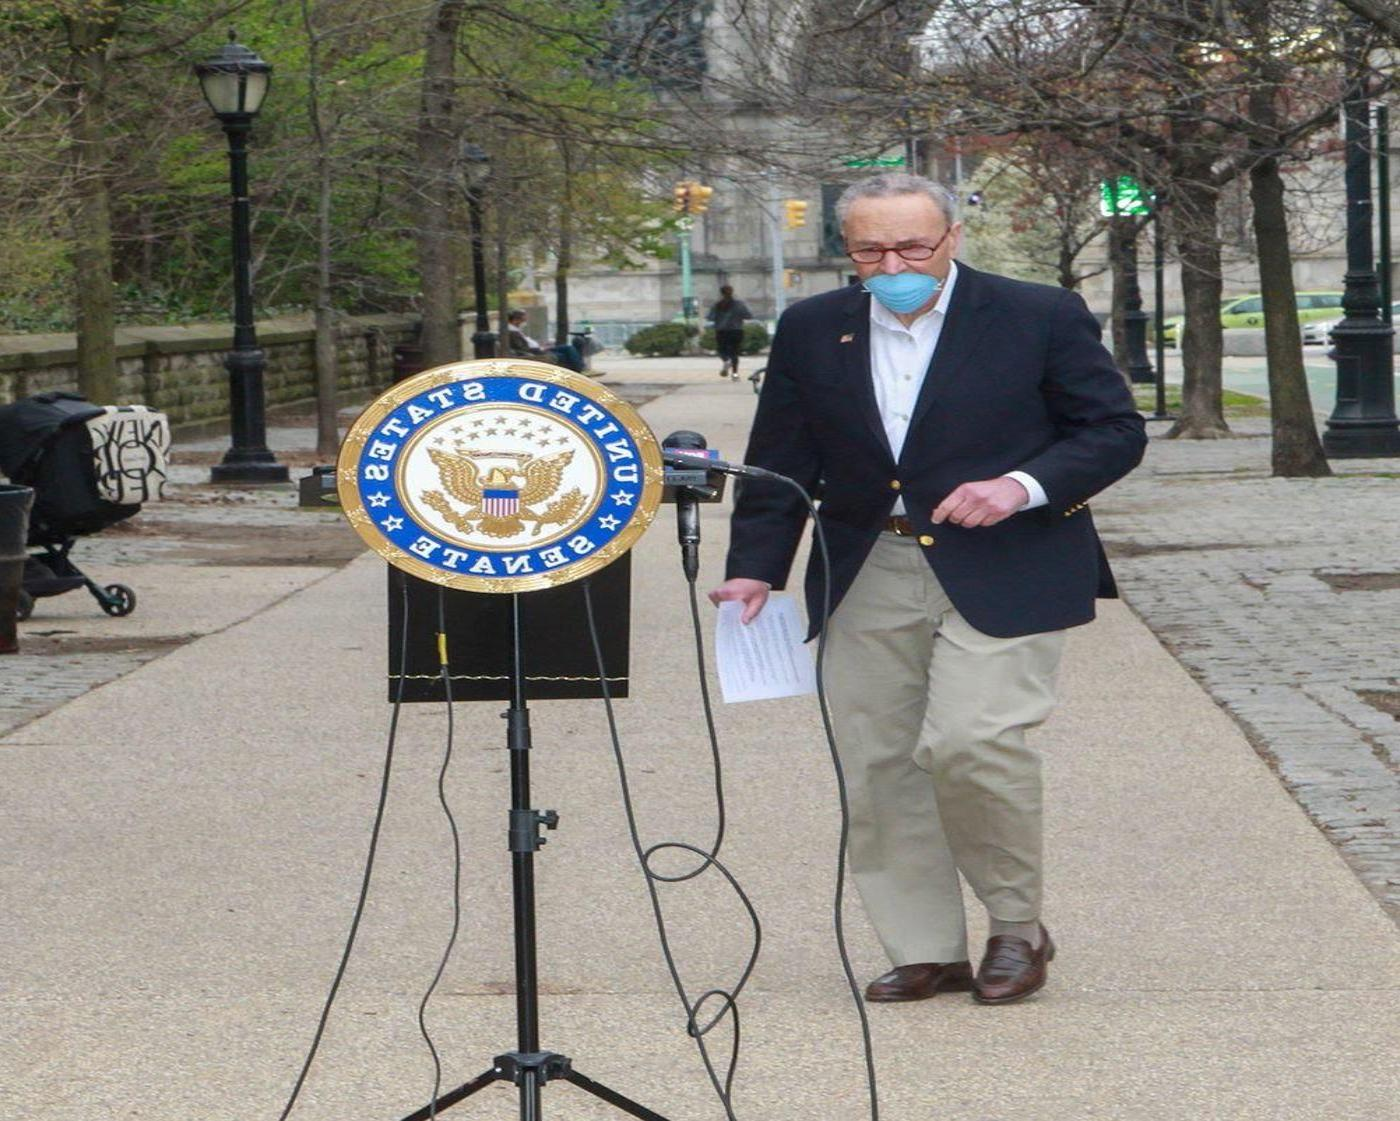mask_weared_incorrect: (832, 172, 966, 319)
